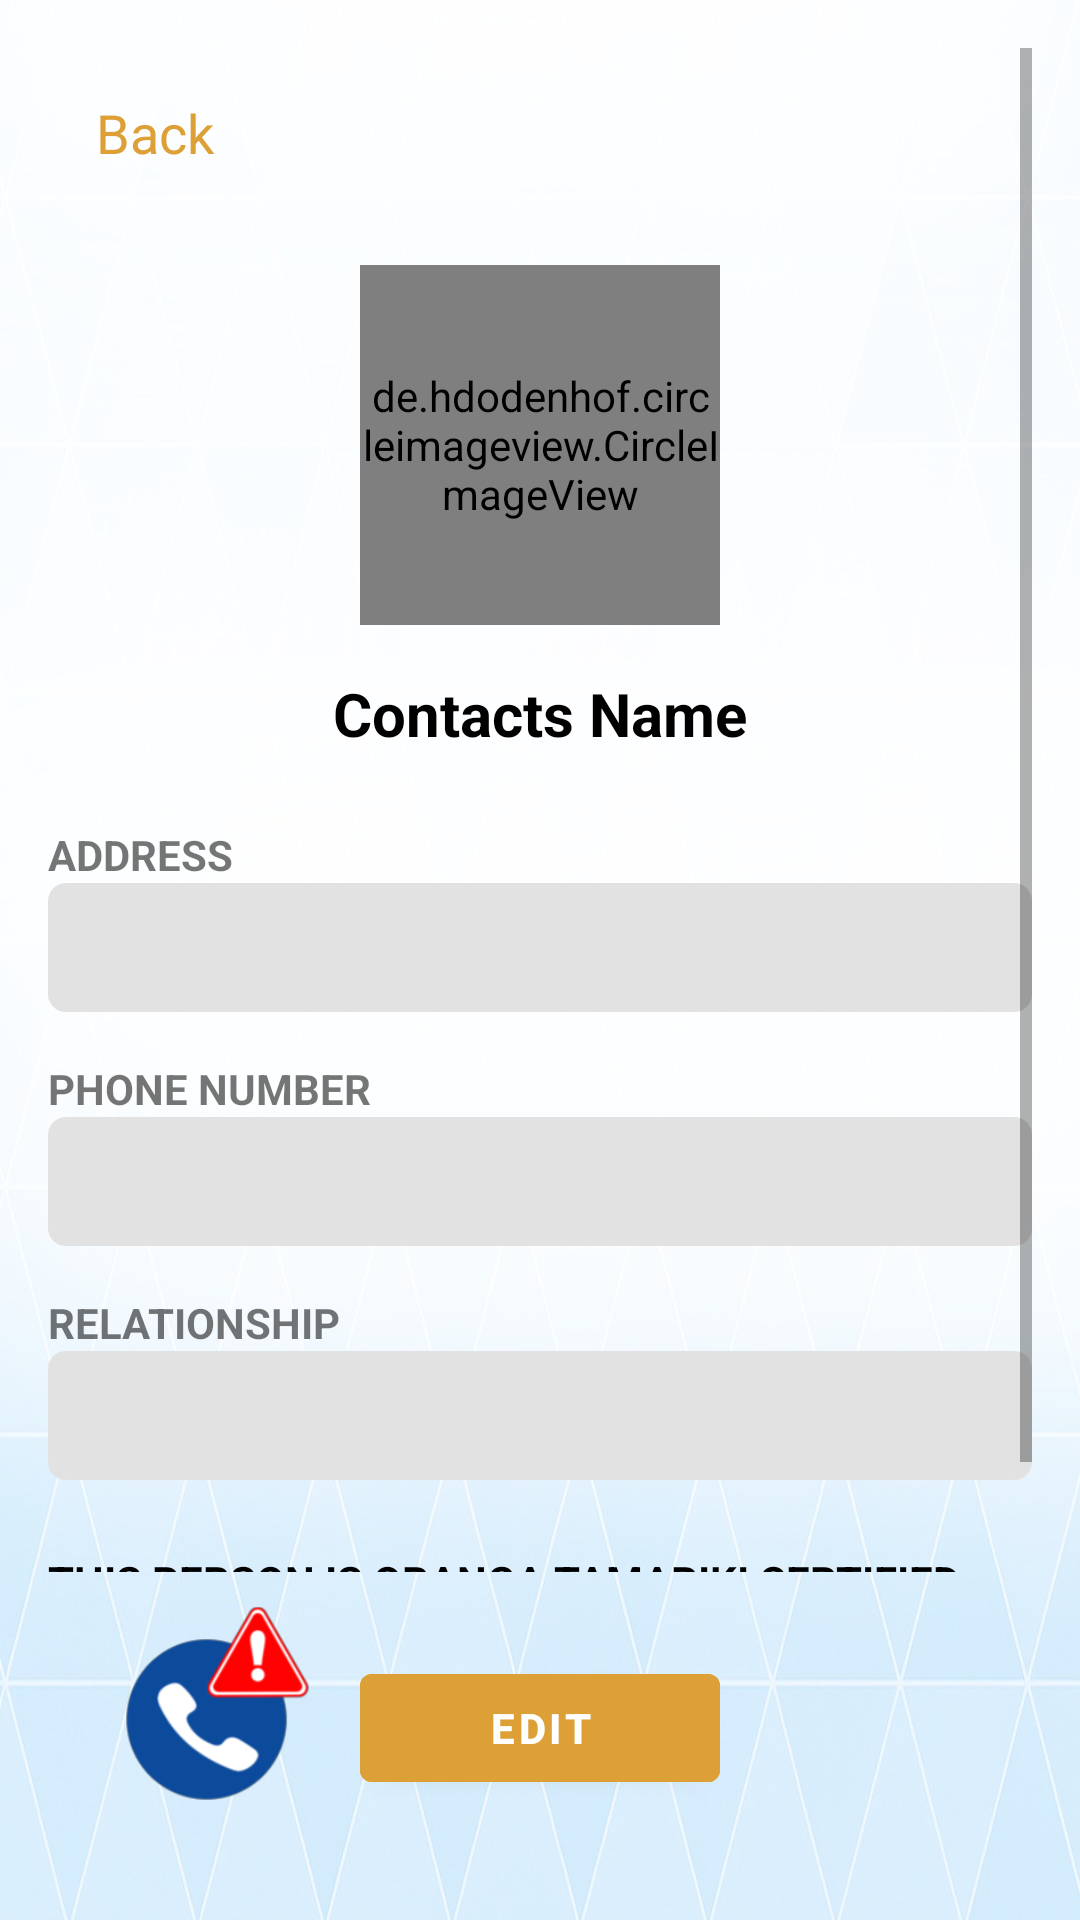

Point at icon controls on the screen. Image size 1080x1920, points as (x,y).
emergencybutton: (217,1703)
